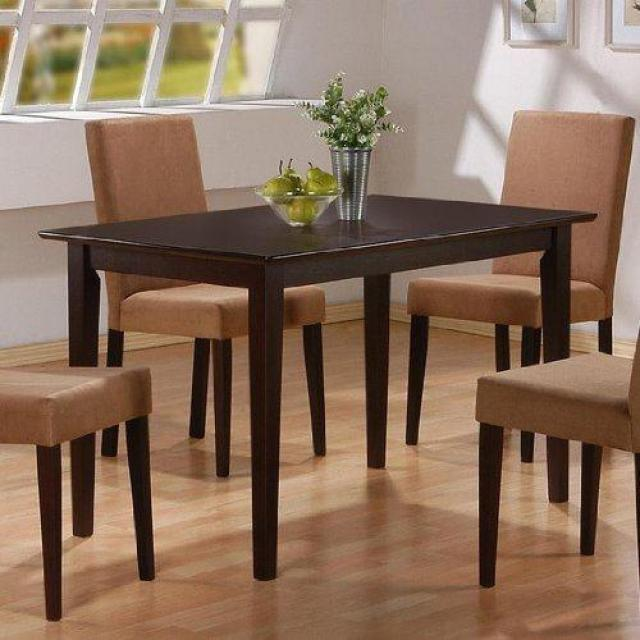table: (41, 196, 599, 584)
